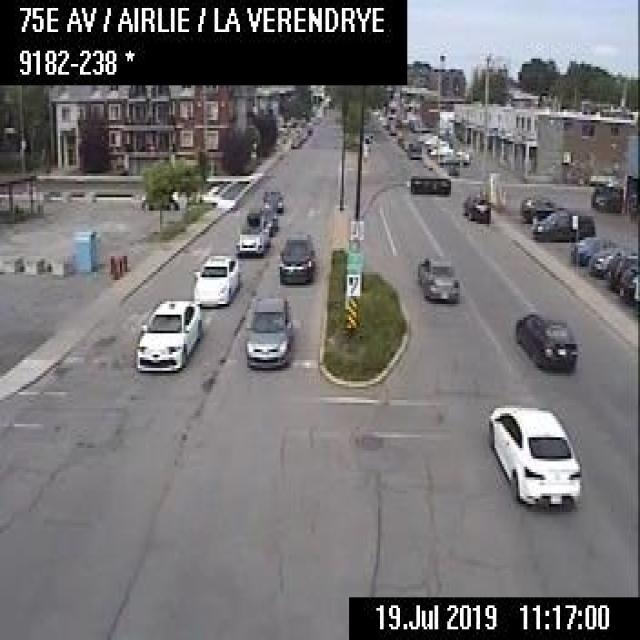construction: (112, 256, 118, 276), (121, 252, 127, 270), (108, 254, 113, 272), (118, 255, 122, 276)
vehicle: (486, 400, 584, 512), (133, 295, 200, 373), (513, 310, 580, 374), (244, 293, 292, 371), (188, 250, 242, 305), (416, 251, 466, 304), (276, 230, 315, 282), (532, 208, 594, 240), (234, 206, 272, 256), (570, 233, 616, 265), (518, 190, 562, 222), (462, 192, 491, 224), (587, 248, 623, 272), (618, 264, 637, 303), (139, 194, 177, 208), (261, 186, 281, 212), (438, 148, 469, 163), (405, 140, 422, 158), (289, 136, 299, 147)
